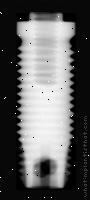3M ESPE: (16, 13, 76, 190)
